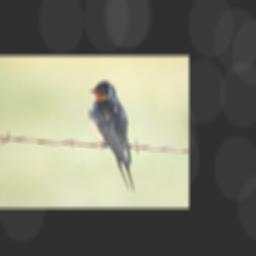Swallow: (88, 79, 136, 191)
